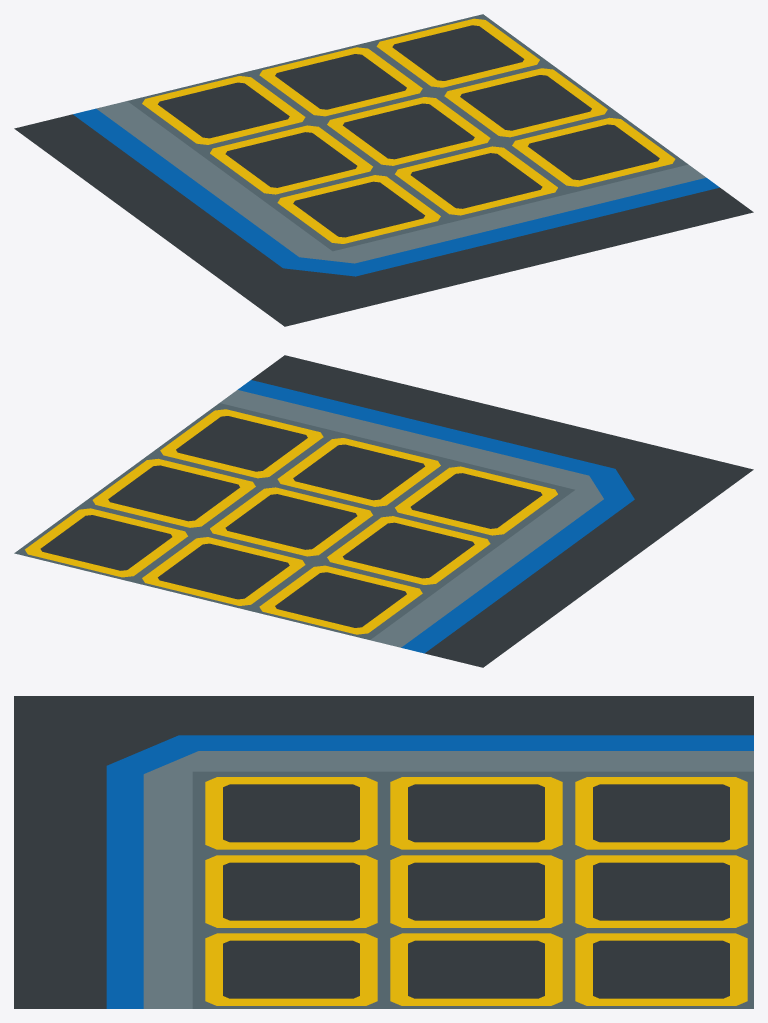
Rendered from Floor_type_C_003.fbx.
The picture shows the model from 3 angles, top to bottom: view 1: azimuth 30°, elevation 25°; view 2: azimuth 150°, elevation 25°; view 3: azimuth 270°, elevation 25°; orthographic projection. The views are drawn at different scales.
Visible parts, largest first — view 1: Floor_type_C_003; view 2: Floor_type_C_003; view 3: Floor_type_C_003.
Boxes of the visible parts, <box> form: Floor_type_C_003: <box>14,14,753,326</box>; Floor_type_C_003: <box>14,355,753,667</box>; Floor_type_C_003: <box>14,696,753,1008</box>.
Size of the model in its own units: 400 by 400 by 1.25e-21.
